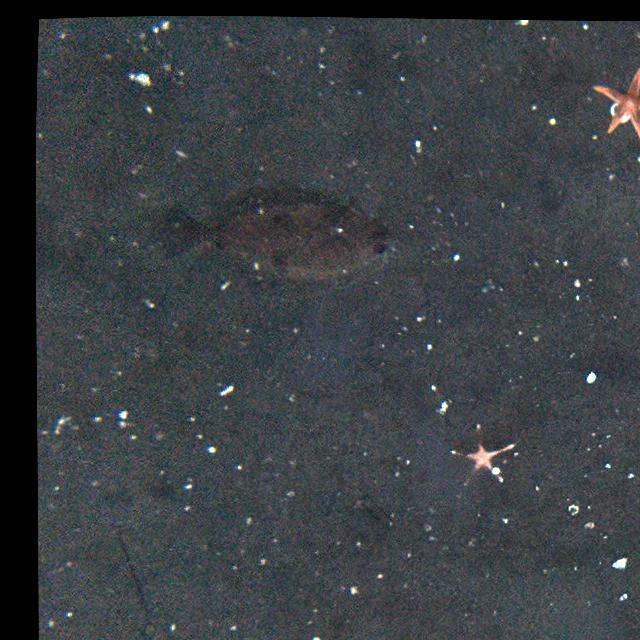flatfish: (153, 186, 398, 296)
